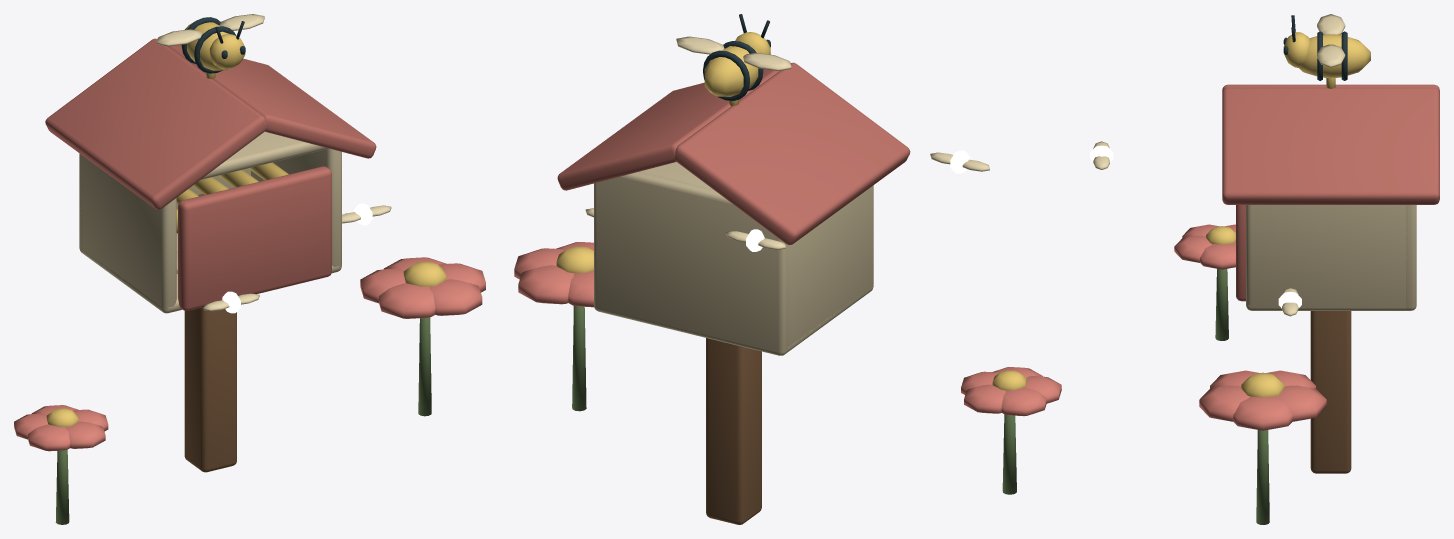
The model's file is discovery_bumblepost.glb.
3 views of the same model, side by side, from view 1: azimuth 30°, elevation 25°; view 2: azimuth 150°, elevation 25°; view 3: azimuth 270°, elevation 25° (orthographic). The views are drawn at different scales.
Visible parts, largest first — view 1: discovery_bumblepost_part_0, discovery_bumblepost_part_1, discovery_bumblepost_part_2, discovery_bumblepost_part_6, discovery_bumblepost_part_5, discovery_bumblepost_part_3; view 2: discovery_bumblepost_part_0, discovery_bumblepost_part_2, discovery_bumblepost_part_6, discovery_bumblepost_part_7, discovery_bumblepost_part_3; view 3: discovery_bumblepost_part_0, discovery_bumblepost_part_2, discovery_bumblepost_part_1, discovery_bumblepost_part_4, discovery_bumblepost_part_6, discovery_bumblepost_part_5, discovery_bumblepost_part_3.
Part boxes in pixels (x1,y1,x2,y2): discovery_bumblepost_part_0: (14,38,485,524); discovery_bumblepost_part_1: (178,166,331,310); discovery_bumblepost_part_2: (181,17,245,73); discovery_bumblepost_part_6: (203,291,259,313); discovery_bumblepost_part_5: (342,203,391,225); discovery_bumblepost_part_3: (157,29,201,46); discovery_bumblepost_part_0: (514,62,1061,524); discovery_bumblepost_part_2: (703,14,770,100); discovery_bumblepost_part_6: (930,150,989,173); discovery_bumblepost_part_7: (726,229,785,251); discovery_bumblepost_part_3: (743,52,791,70); discovery_bumblepost_part_0: (1174,78,1439,524); discovery_bumblepost_part_2: (1283,15,1370,80); discovery_bumblepost_part_1: (1236,205,1245,301); discovery_bumblepost_part_4: (1317,44,1345,67); discovery_bumblepost_part_6: (1090,141,1113,169); discovery_bumblepost_part_5: (1278,287,1301,316); discovery_bumblepost_part_3: (1317,14,1345,34).
Size of the model in its own units: 4.01 by 3.61 by 2.57.
